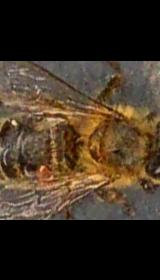varroa_mite: (31, 162, 52, 184)
